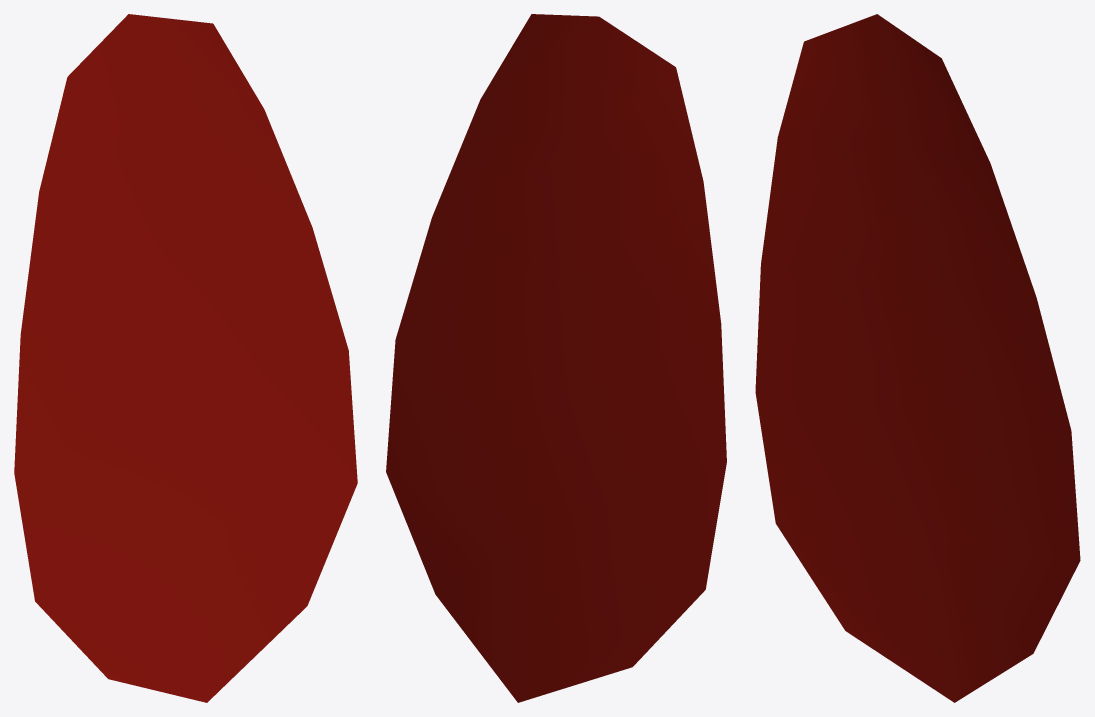
Rendered from ara_feather_flight_tertiary_047.obj.
The picture shows the model from 3 angles, left to right: view 1: azimuth 30°, elevation 25°; view 2: azimuth 150°, elevation 25°; view 3: azimuth 330°, elevation 25°; orthographic projection. The views are drawn at different scales.
Parts seen in each view (by area): view 1: feather_flight_tertiary_047; view 2: feather_flight_tertiary_047; view 3: feather_flight_tertiary_047.
Part boxes in pixels (x1,y1,x2,y2): feather_flight_tertiary_047: (14, 14, 357, 702); feather_flight_tertiary_047: (386, 14, 726, 702); feather_flight_tertiary_047: (755, 14, 1080, 702).
Size of the model in its own units: 0.0174 by 0.0343 by 0.000868.
